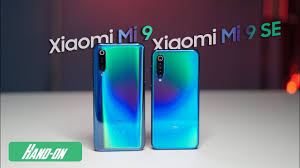mi: (92, 42, 146, 155), (148, 43, 202, 156)
